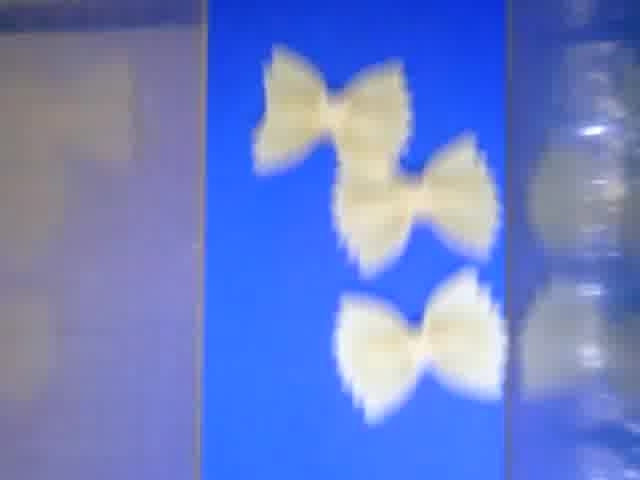farfalle: (332, 269, 507, 416), (333, 129, 501, 274), (248, 41, 415, 171)
